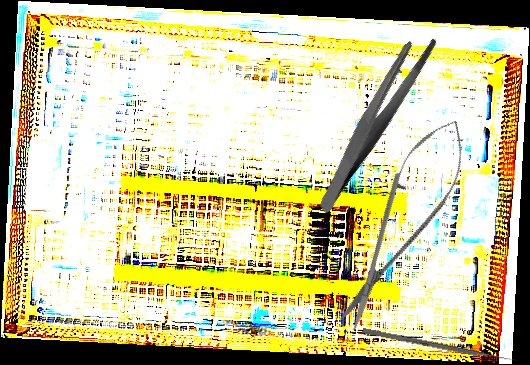Dressing Forceps: (279, 26, 471, 215)
Micro Scissor: (320, 107, 483, 340)
Pusher: (361, 327, 519, 365)
